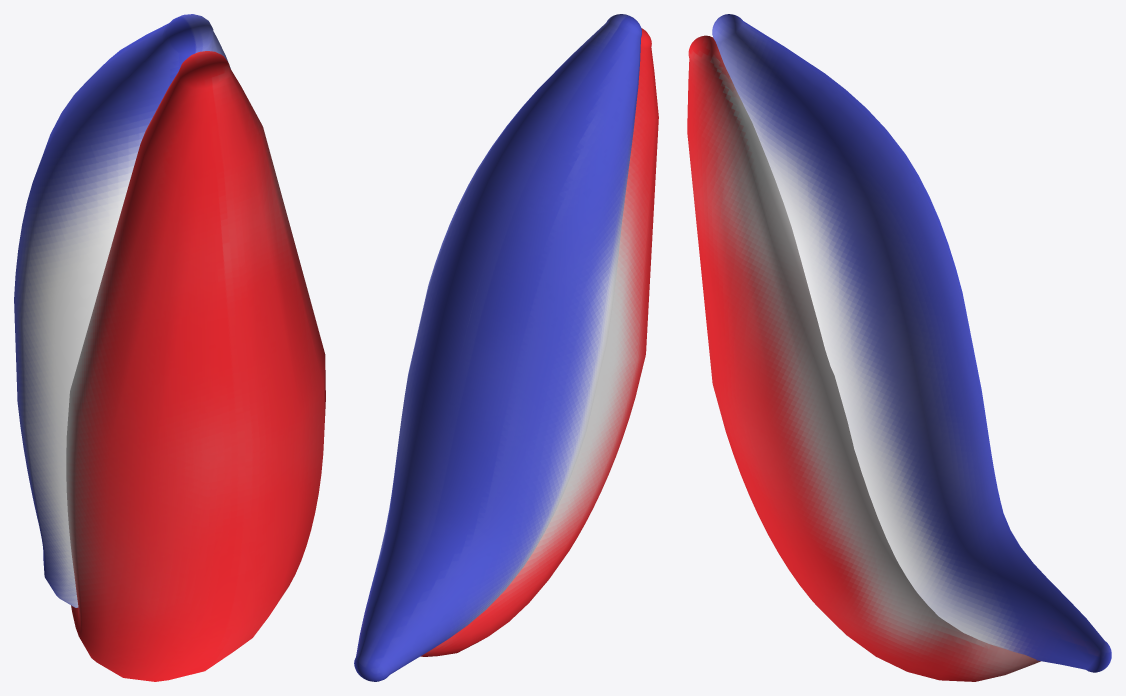
Rendered from toothpaste.obj.
3 views of the same model, side by side, from view 1: azimuth 30°, elevation 25°; view 2: azimuth 150°, elevation 25°; view 3: azimuth 270°, elevation 25° (orthographic). The views are drawn at different scales.
Parts seen in each view (by area): view 1: dynamic; view 2: dynamic; view 3: dynamic.
Part boxes in pixels (left/top/right/bottom): dynamic: left=14, top=14, right=325, bottom=681; dynamic: left=354, top=14, right=658, bottom=681; dynamic: left=687, top=14, right=1111, bottom=681.
Size of the model in its own units: 0.0946 by 0.2804 by 0.1738.
Materials: 2 (2 with a texture image).
